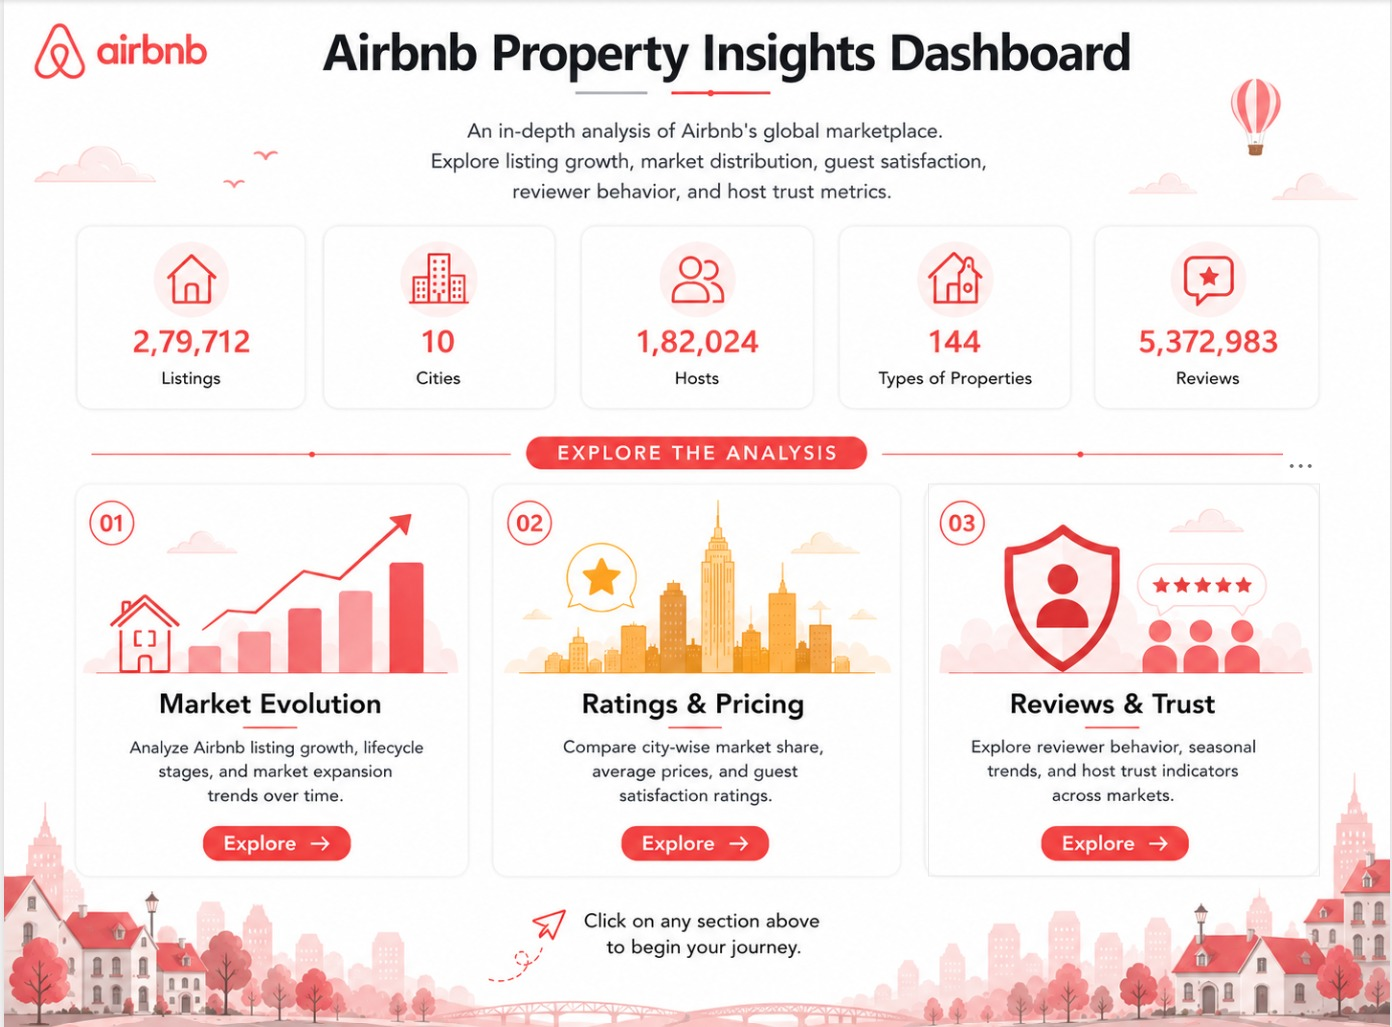

Layout of this report page (visuals, bound fields, positions):
{"tool":"powerbi","page":{"name":"Landing page","canvas":[960,720],"ordinal":0},"visuals":[{"type":"cardVisual","fields":{"Data":["Count(Listings.host_id)"]},"box":[400,160,160,112],"z":0},{"type":"cardVisual","fields":{"Data":["Count(Listings.property_type)"]},"box":[576,160,160,112],"z":1000},{"type":"cardVisual","fields":{"Data":["Count(Reviews.review_id)"]},"box":[752,160,160,112],"z":2000},{"type":"cardVisual","fields":{"Data":["Count(Listings.city)"]},"box":[224,160,160,112],"z":3000},{"type":"cardVisual","fields":{"Data":["CountNonNull(Listings.listing_id)"]},"box":[48,160,160,112],"z":4000},{"type":"actionButton","box":[48,336,272,272],"z":5000},{"type":"actionButton","box":[336,336,272,272],"z":6000},{"type":"actionButton","box":[640,336,272,272],"z":7000}]}

Visuals, with their boxes in screenshot pixels (x1, y1, x2, y2), scaled from the page's 960x720 canvas onto the 1392x1027 screenshot:
cardVisual - Count(Listings.host_id): pyautogui.locateOnScreen(580, 228, 812, 388)
cardVisual - Count(Listings.property_type): pyautogui.locateOnScreen(835, 228, 1067, 388)
cardVisual - Count(Reviews.review_id): pyautogui.locateOnScreen(1090, 228, 1322, 388)
cardVisual - Count(Listings.city): pyautogui.locateOnScreen(325, 228, 557, 388)
cardVisual - CountNonNull(Listings.listing_id): pyautogui.locateOnScreen(70, 228, 302, 388)
actionButton: pyautogui.locateOnScreen(70, 479, 464, 867)
actionButton: pyautogui.locateOnScreen(487, 479, 882, 867)
actionButton: pyautogui.locateOnScreen(928, 479, 1322, 867)
